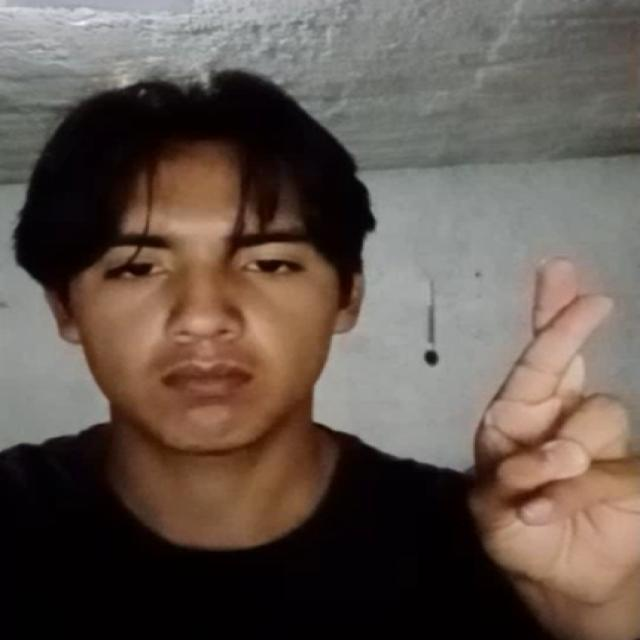R: (458, 243, 640, 608)
